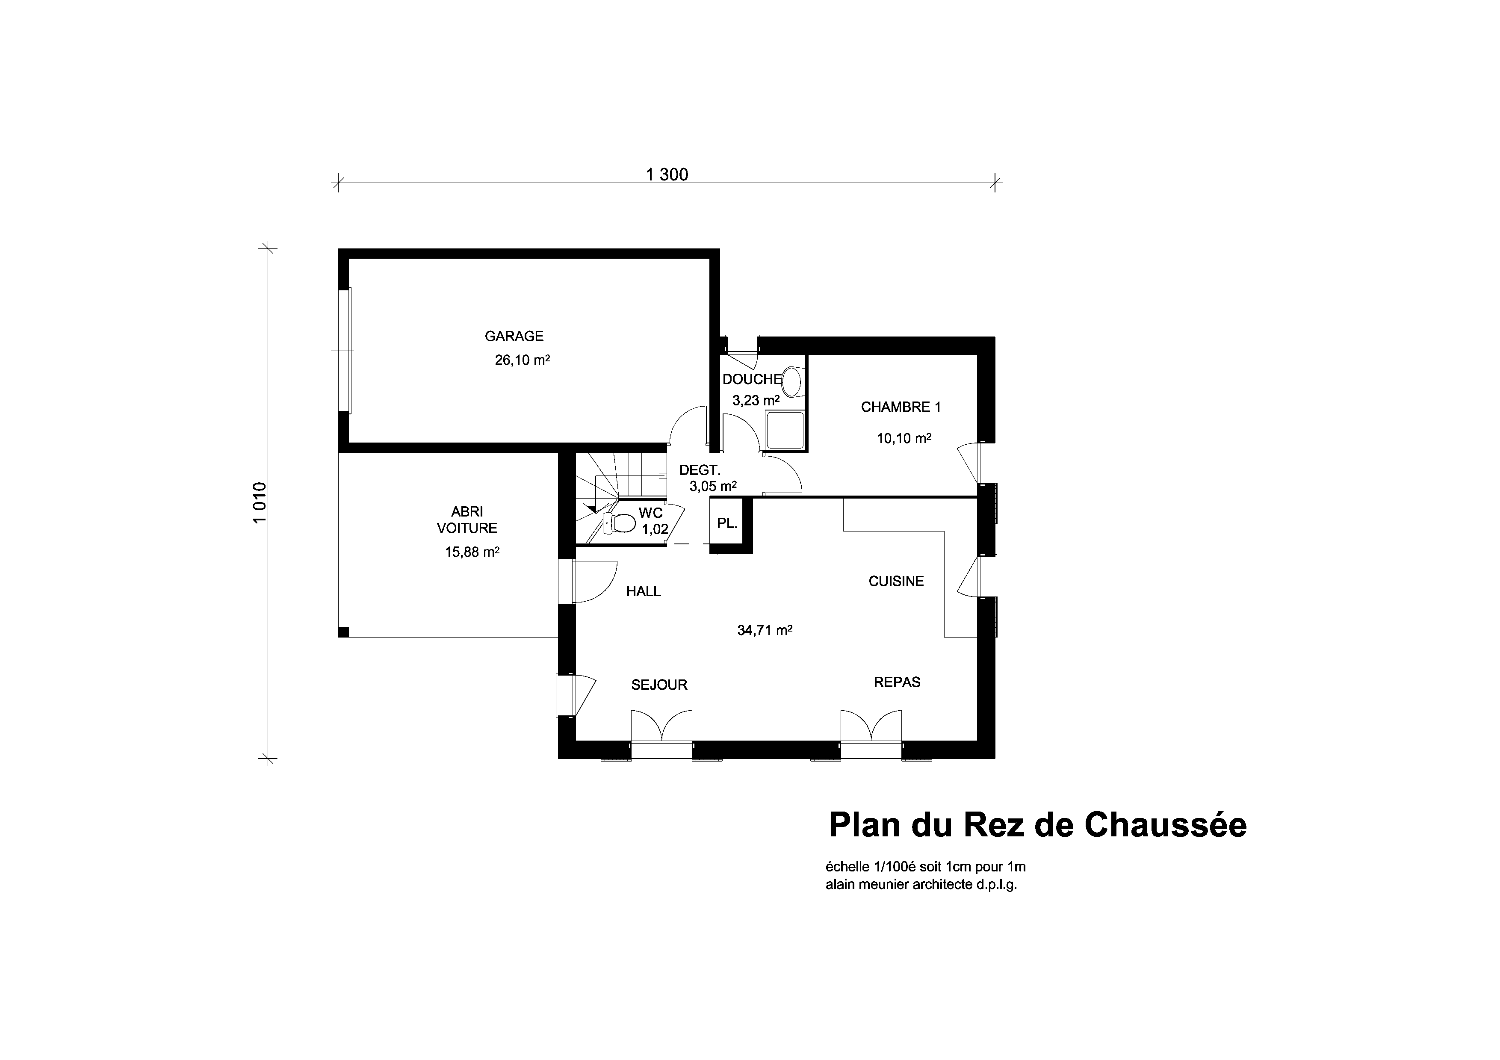ceramic sink: (781, 366, 805, 399)
door: (556, 558, 619, 608), (666, 405, 710, 446), (761, 453, 802, 496), (720, 413, 761, 453), (664, 501, 685, 544)
square bath tab: (765, 410, 805, 451)
toilet: (603, 512, 636, 535)
window: (834, 709, 906, 763), (625, 709, 696, 763), (555, 672, 597, 719), (956, 553, 998, 600), (956, 441, 997, 488), (725, 335, 760, 371)
